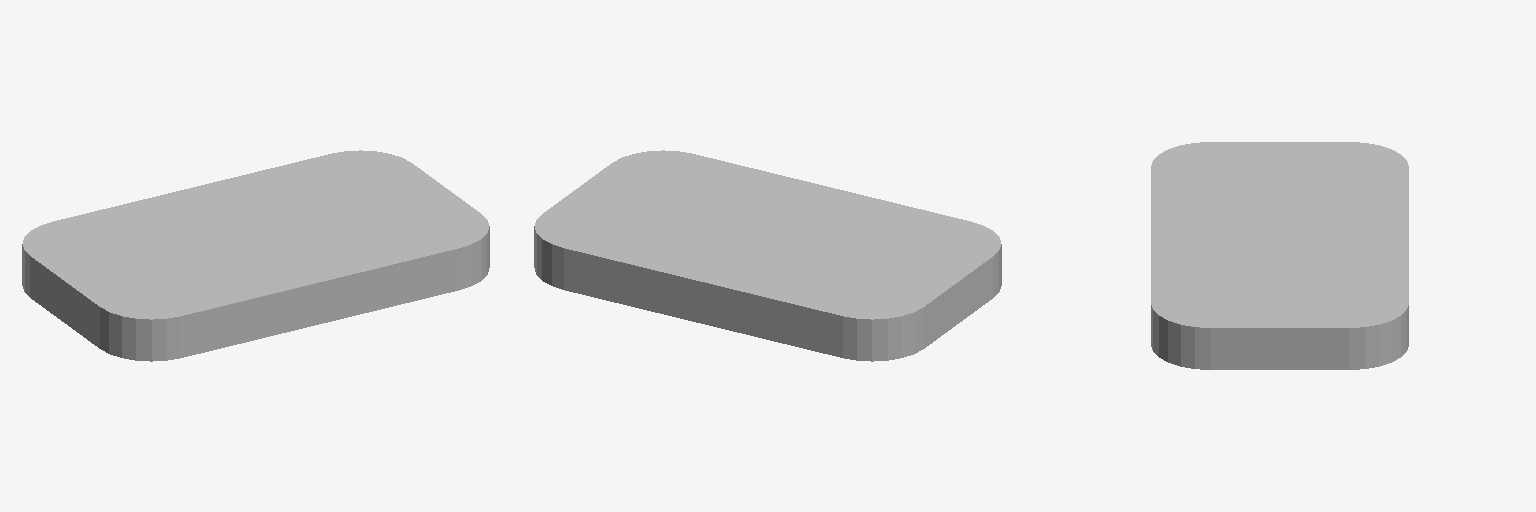
Rendered from original-94.obj.
The picture shows the model from 3 angles: view 1: azimuth 30°, elevation 25°; view 2: azimuth 150°, elevation 25°; view 3: azimuth 270°, elevation 25°; orthographic projection.
Parts seen in each view (by area): view 1: mesh92/mesh92-geometry#mesh92-geometry; view 2: mesh92/mesh92-geometry#mesh92-geometry; view 3: mesh92/mesh92-geometry#mesh92-geometry.
Part boxes in pixels (x1,y1,x2,y2): mesh92/mesh92-geometry#mesh92-geometry: (22, 150, 489, 361); mesh92/mesh92-geometry#mesh92-geometry: (534, 150, 1001, 361); mesh92/mesh92-geometry#mesh92-geometry: (1151, 142, 1408, 369).
Size of the model in its own units: 0.0496 by 0.0052 by 0.0291.